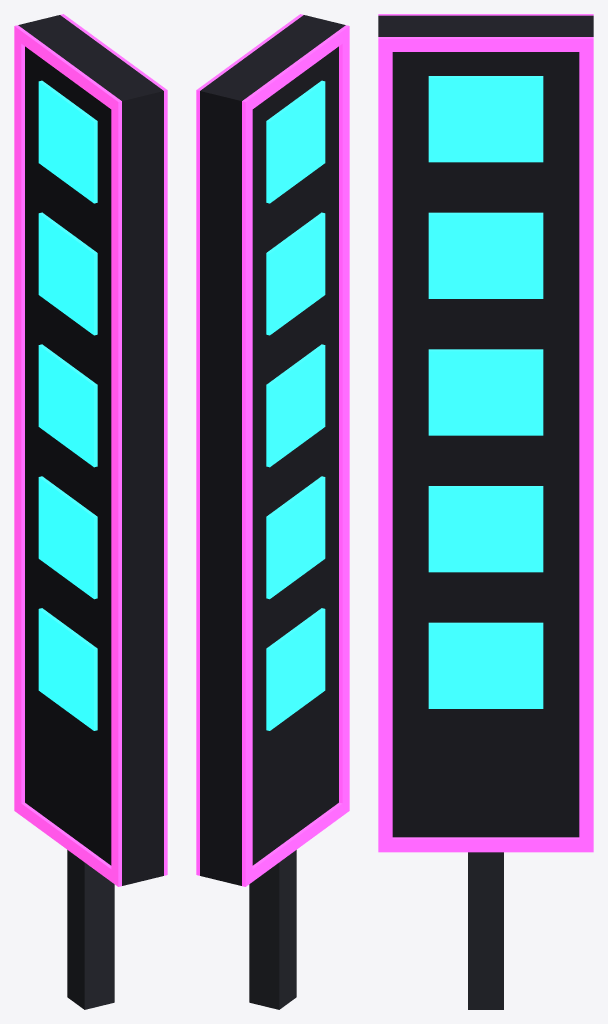
File: cyb-letreiro.gltf
3 renders of one model, left to right at view 1: azimuth 30°, elevation 25°; view 2: azimuth 150°, elevation 25°; view 3: azimuth 270°, elevation 25°, orthographic. The views are drawn at different scales.
Visible parts, largest first — view 1: cyb-letreiro; view 2: cyb-letreiro; view 3: cyb-letreiro.
Boxes of the visible parts, x1,y1,x2,y2 form: cyb-letreiro: (14, 14, 167, 1009); cyb-letreiro: (196, 14, 349, 1009); cyb-letreiro: (378, 14, 593, 1009).
Bounding box in the file's own units: 0.164 × 3 × 0.6.
